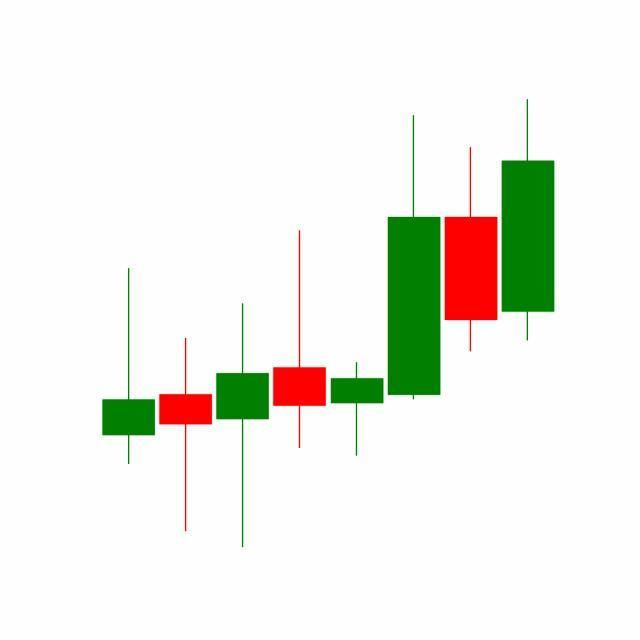Hikkake Pattern: (270, 100, 555, 462)
